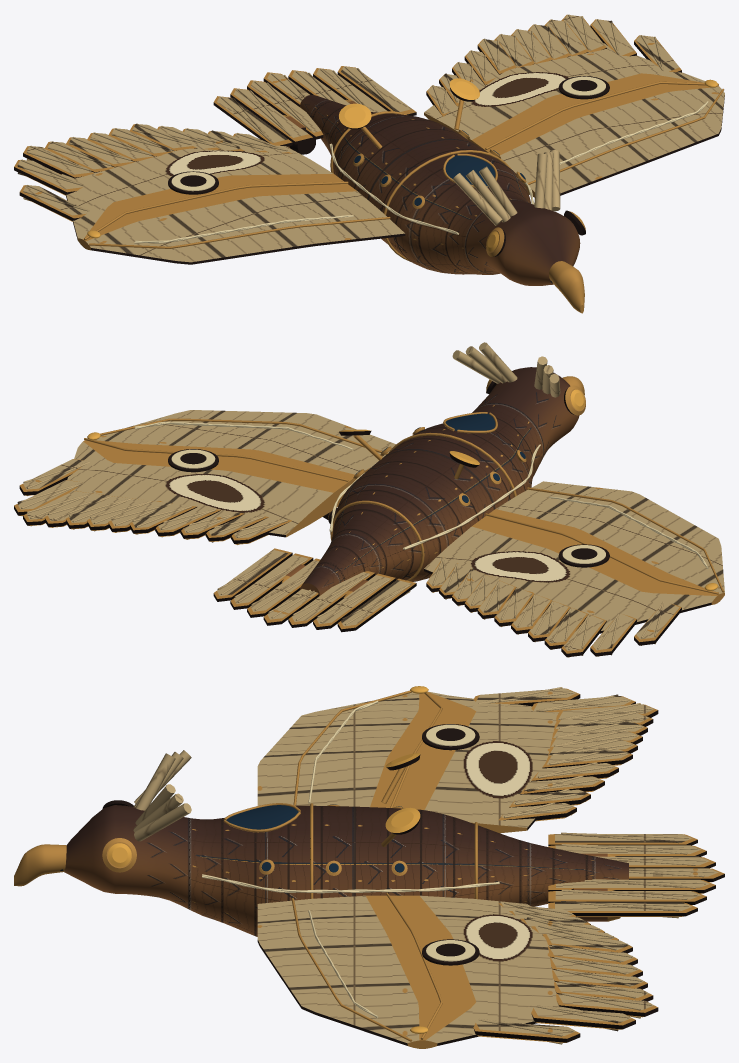
The picture shows the model from 3 angles, top to bottom: view 1: azimuth 30°, elevation 25°; view 2: azimuth 150°, elevation 25°; view 3: azimuth 270°, elevation 25°; orthographic projection. The views are drawn at different scales.
Visible parts, largest first — view 1: harpy_eagle_hull; view 2: harpy_eagle_hull; view 3: harpy_eagle_hull.
Part boxes in pixels (x1=…): harpy_eagle_hull: x1=14, y1=14, x2=724, y2=313; harpy_eagle_hull: x1=14, y1=342, x2=724, y2=657; harpy_eagle_hull: x1=14, y1=686, x2=724, y2=1048.
Size of the model in its own units: 82 by 18.39 by 70.37.
1 material, 1 textured.
